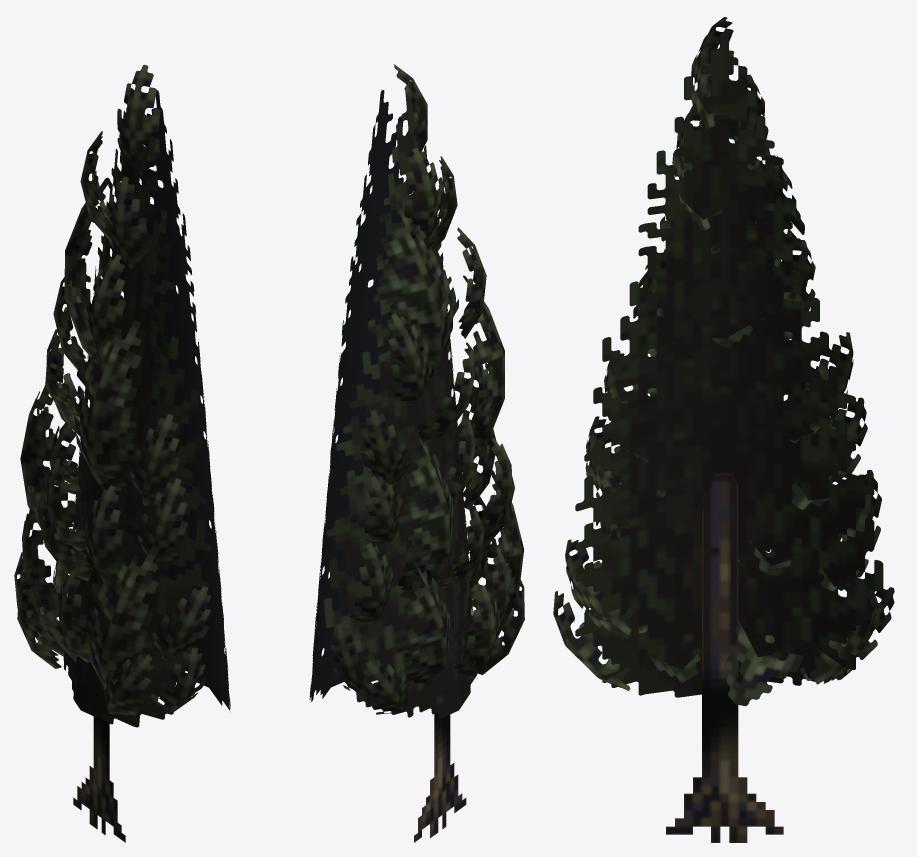
The model's file is EnvFldMD_Tree_I_S_Painted.FBX.
3 views of the same model, side by side, from view 1: azimuth 30°, elevation 25°; view 2: azimuth 150°, elevation 25°; view 3: azimuth 270°, elevation 25° (orthographic). The views are drawn at different scales.
Visible parts, largest first — view 1: EnvFldMD_Tree_I_S_Painted; view 2: EnvFldMD_Tree_I_S_Painted; view 3: EnvFldMD_Tree_I_S_Painted.
Boxes of the visible parts, left/top/right/bottom form: EnvFldMD_Tree_I_S_Painted: left=14, top=64, right=230, bottom=842; EnvFldMD_Tree_I_S_Painted: left=309, top=64, right=524, bottom=842; EnvFldMD_Tree_I_S_Painted: left=553, top=17, right=894, bottom=842.
Size of the model in its own units: 128 by 521 by 193.
2 materials, 2 textured.
